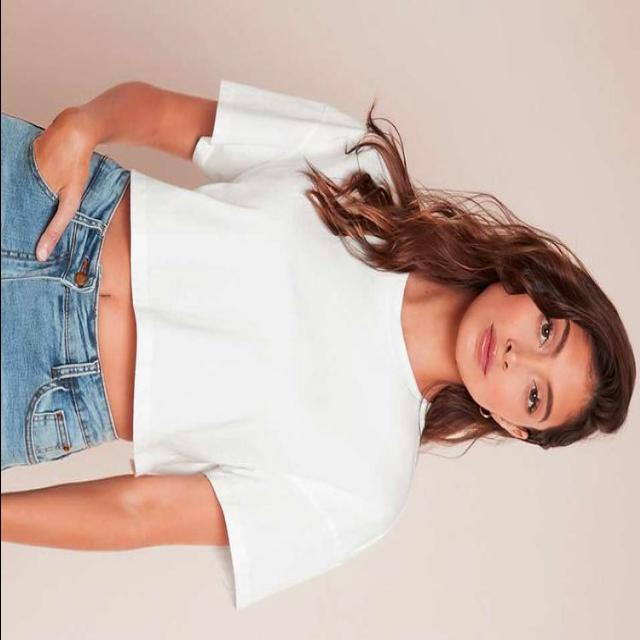shoulder: (311, 105, 426, 568)
